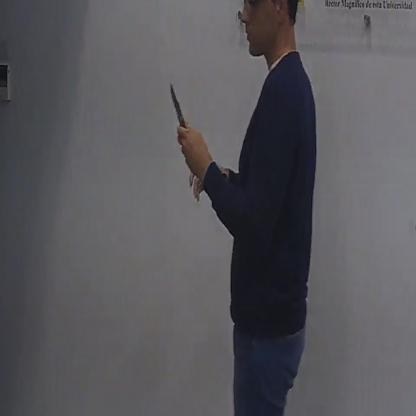knife: (165, 72, 196, 153)
